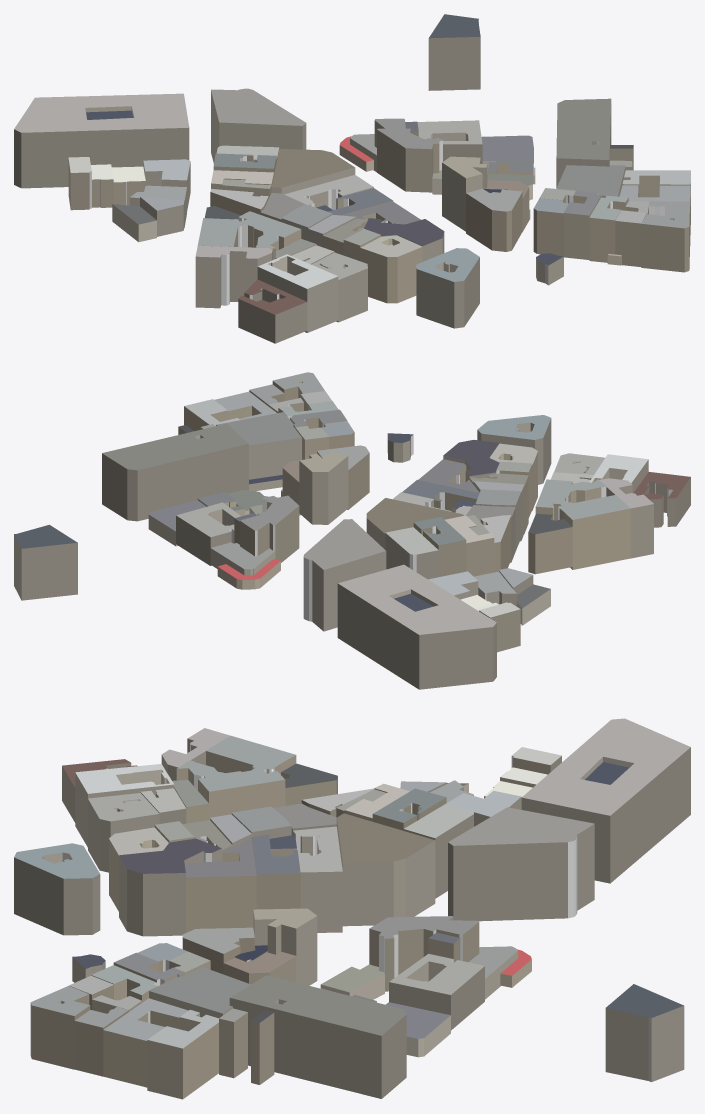
The picture shows the model from 3 angles, top to bottom: view 1: azimuth 30°, elevation 25°; view 2: azimuth 150°, elevation 25°; view 3: azimuth 270°, elevation 25°; orthographic projection. The views are drawn at different scales.
Parts seen in each view (by area): view 1: tuile; view 2: tuile; view 3: tuile.
Part boxes in pixels (bbox=[...]): tuile: bbox=[14, 14, 690, 343]; tuile: bbox=[14, 372, 690, 689]; tuile: bbox=[14, 718, 690, 1099].
Size of the model in its own units: 280 by 40.79 by 271.
